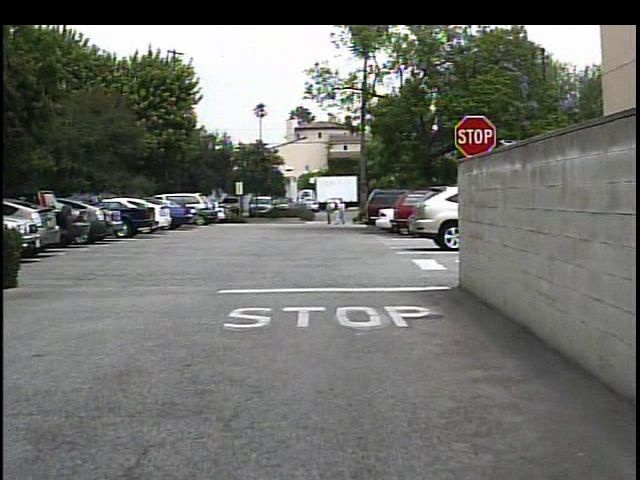person: (319, 201, 334, 228), (334, 200, 348, 228)
